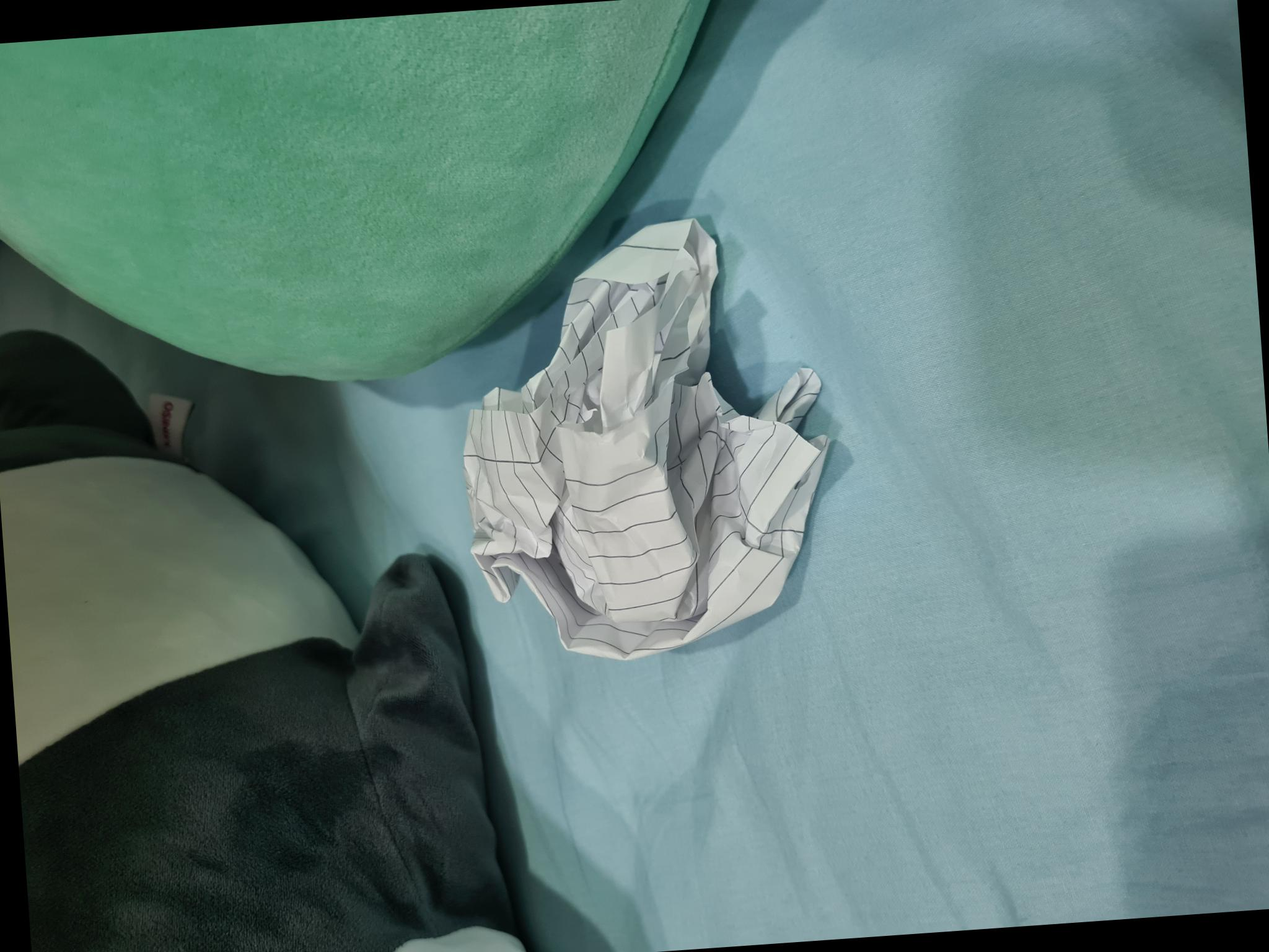Kertas: (305, 476, 743, 833)
